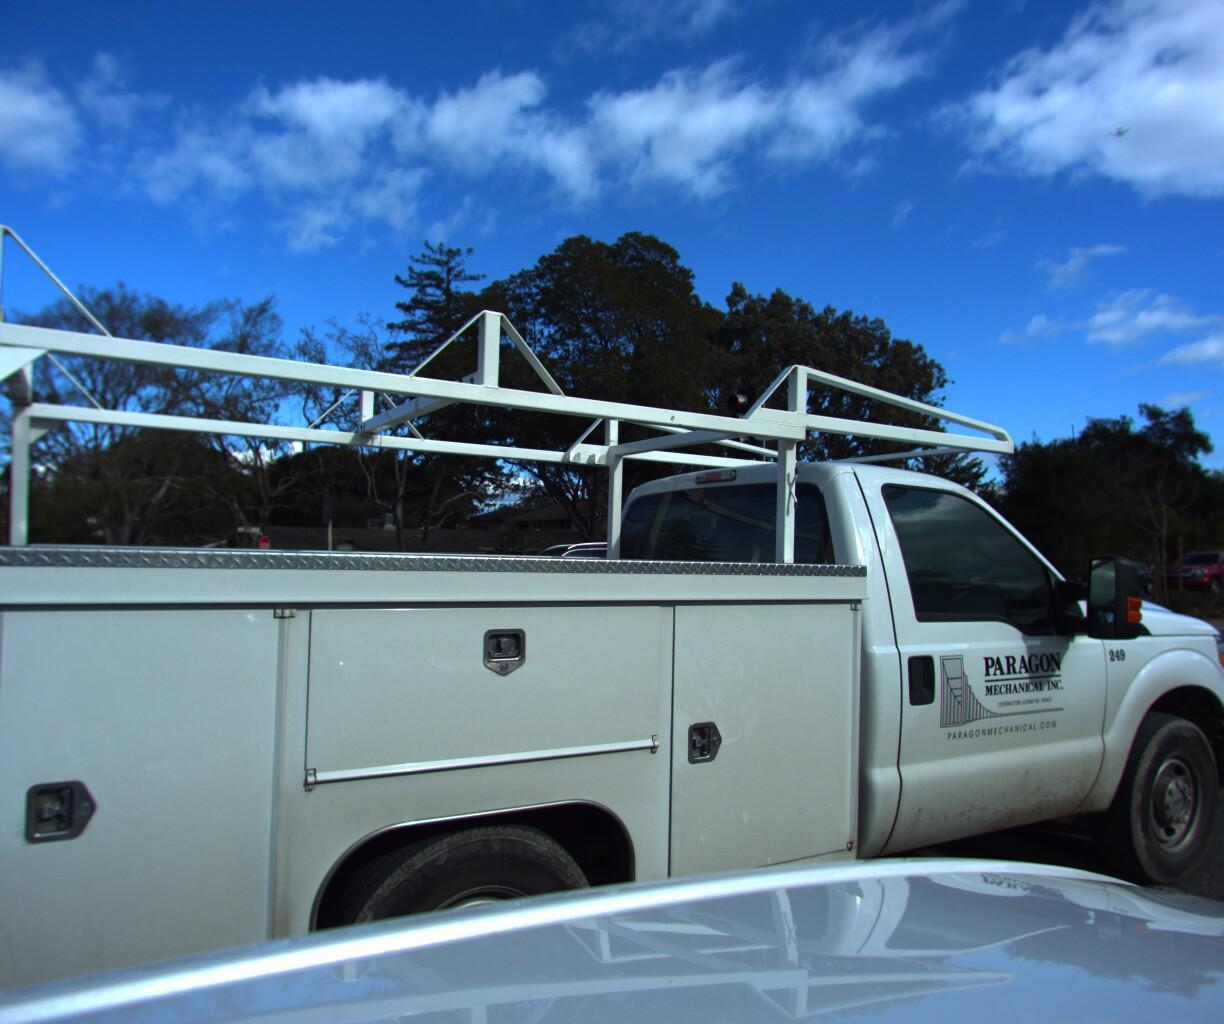car: (453, 536, 675, 623), (391, 555, 573, 618), (298, 554, 474, 615), (929, 549, 1041, 597), (1068, 555, 1168, 598), (1146, 542, 1224, 593), (102, 565, 144, 590)
